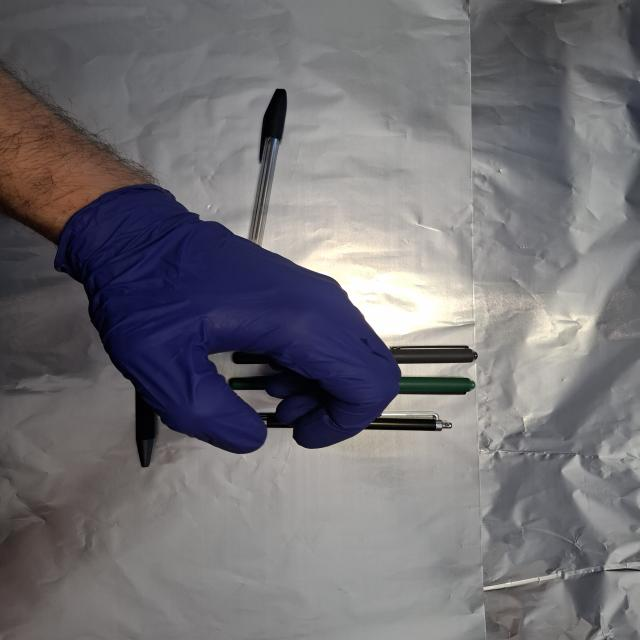glove_on: (50, 180, 406, 457)
